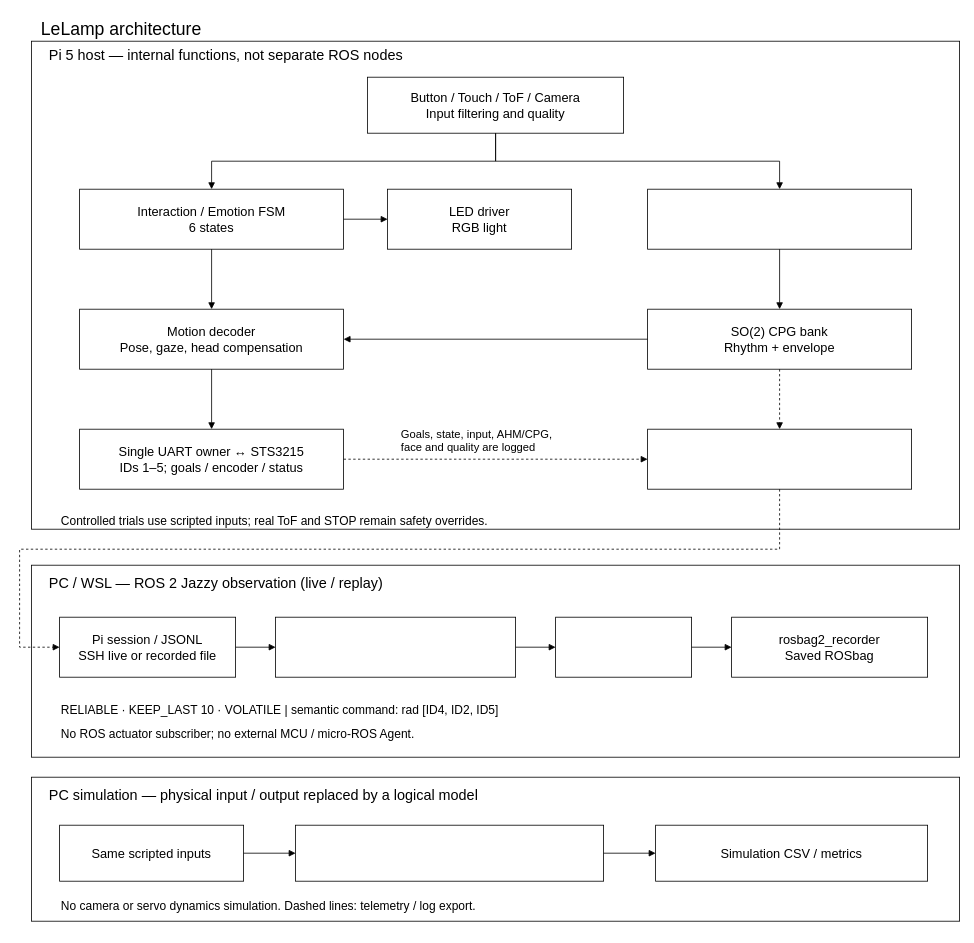
Some shapes in this 974 by 943 pixel diagram are drawn without their labels. Each missing label, with the box of its shape:
13 /lamp topics: (555, 616, 692, 677)
AHM + phi mapping C0: R=S / C1: R=H: (647, 188, 912, 249)
lelamp_session_observer 13-topic publisher: (275, 616, 516, 677)
Logical FSM + AHM / SO(2) CPG: (295, 824, 604, 881)
Session logger Runtime snapshots: (647, 428, 912, 489)
